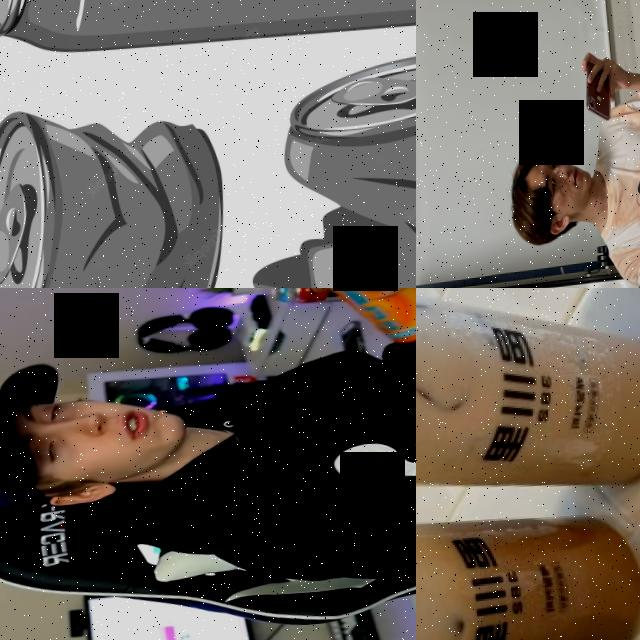can: (416, 288, 640, 508), (416, 502, 640, 640), (0, 0, 416, 62)
